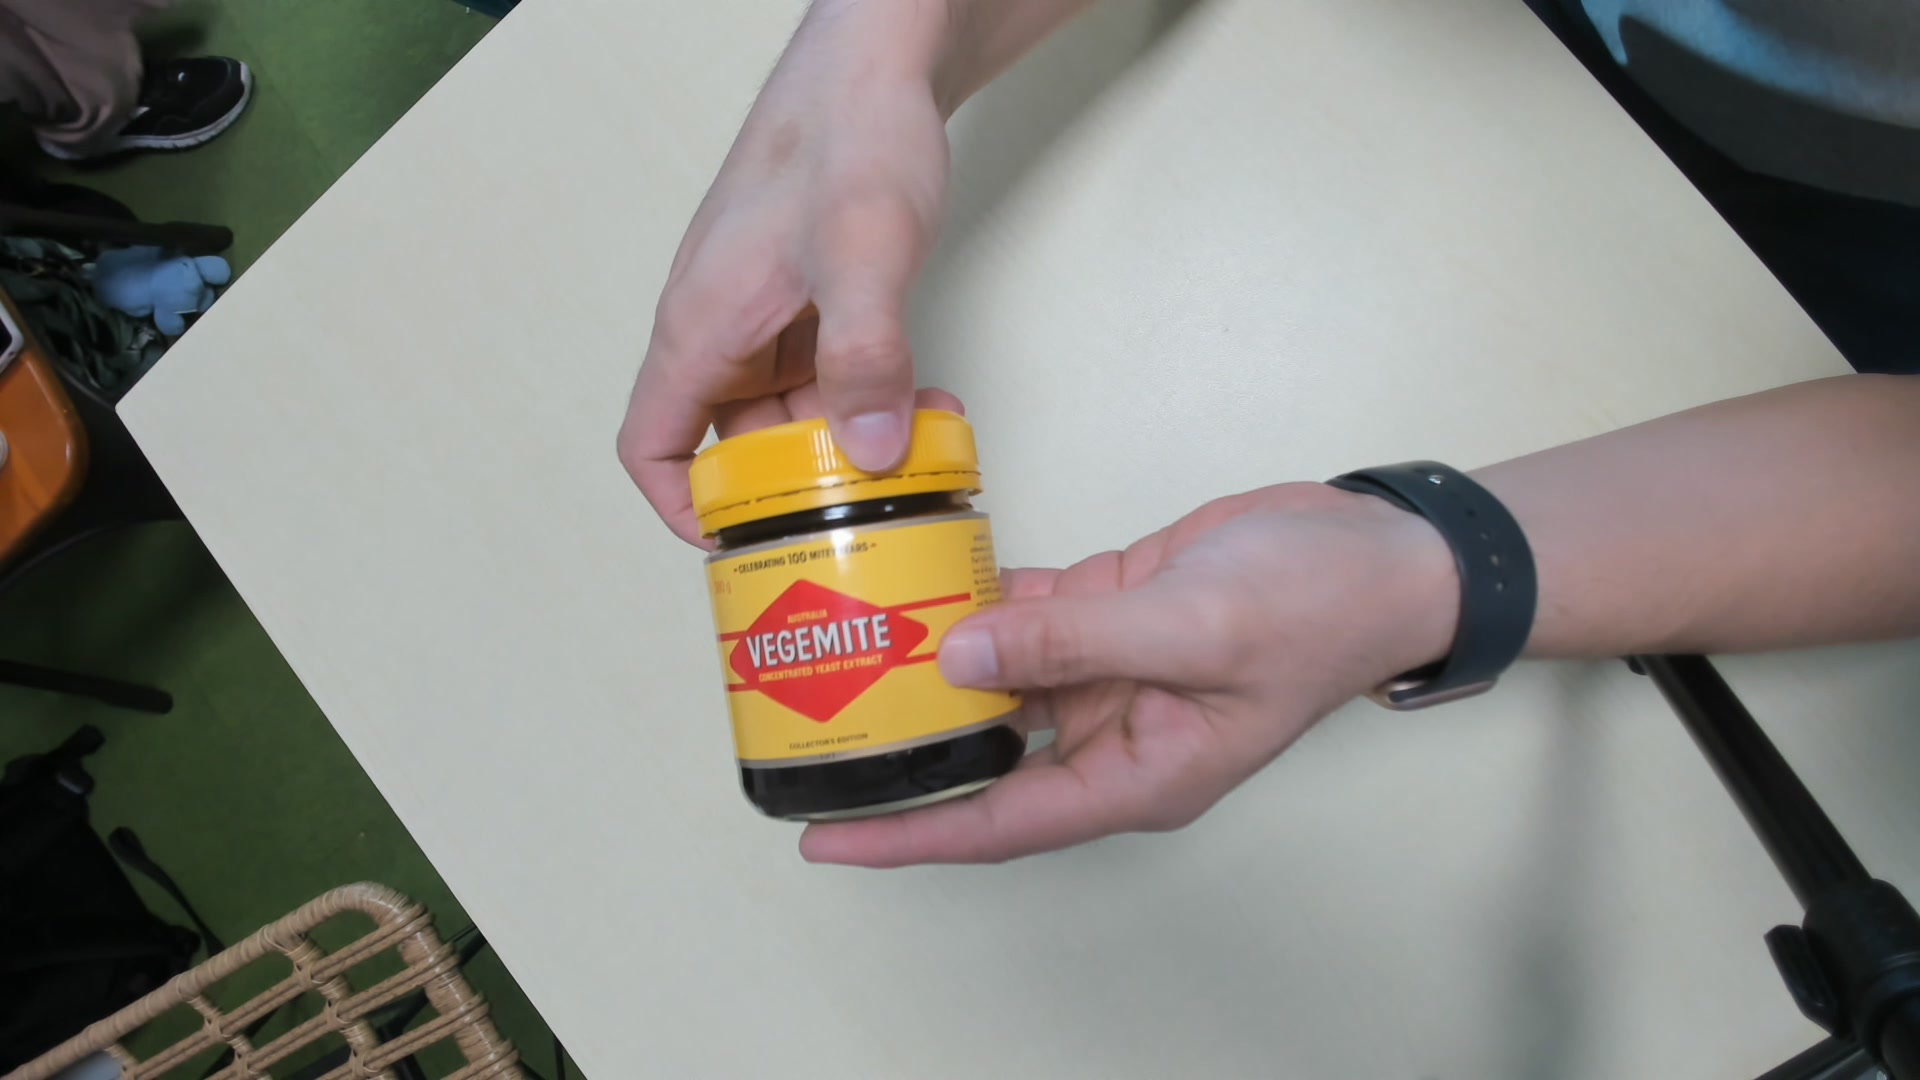OtherSauceDressing_300-399g_Halal_NonHealthy: (690, 419, 1030, 816)
